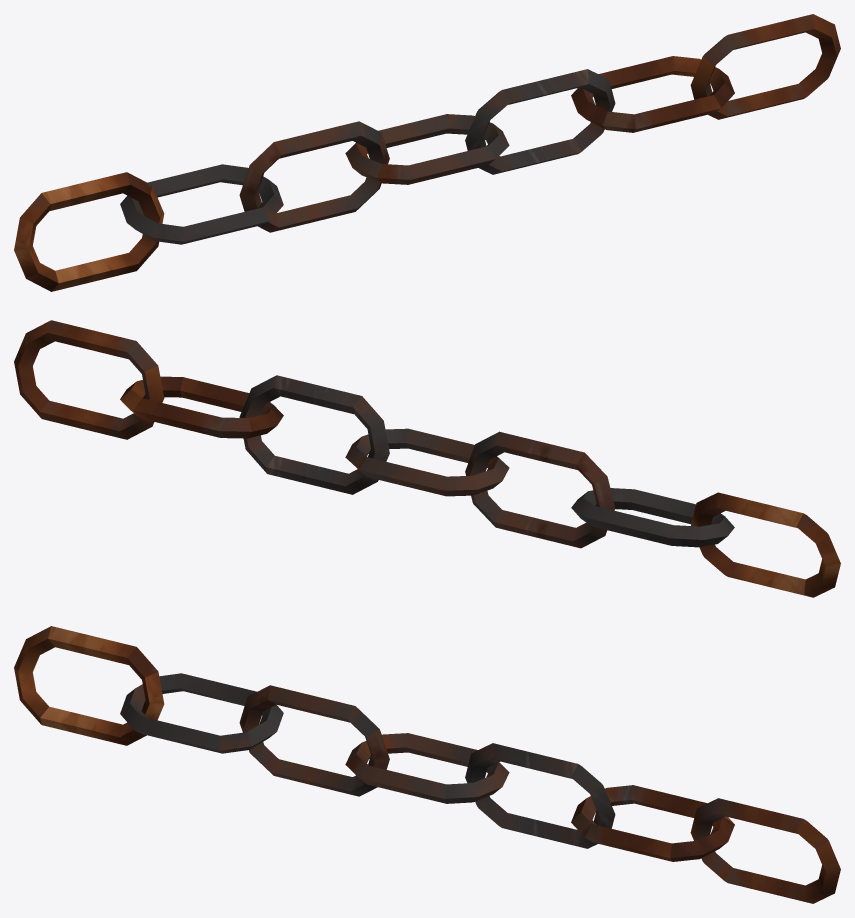
File: Chain_Segment.glb
3 renders of one model, top to bottom at view 1: azimuth 30°, elevation 25°; view 2: azimuth 150°, elevation 25°; view 3: azimuth 330°, elevation 25°, orthographic.
Parts seen in each view (by area): view 1: Chain_Segment; view 2: Chain_Segment; view 3: Chain_Segment.
Part boxes in pixels (<box>): Chain_Segment: <box>14,14,840,291</box>; Chain_Segment: <box>14,320,840,597</box>; Chain_Segment: <box>14,626,840,903</box>.
Size of the model in its own units: 0.88 by 0.0949 by 0.0951.
1 material, 1 textured.
